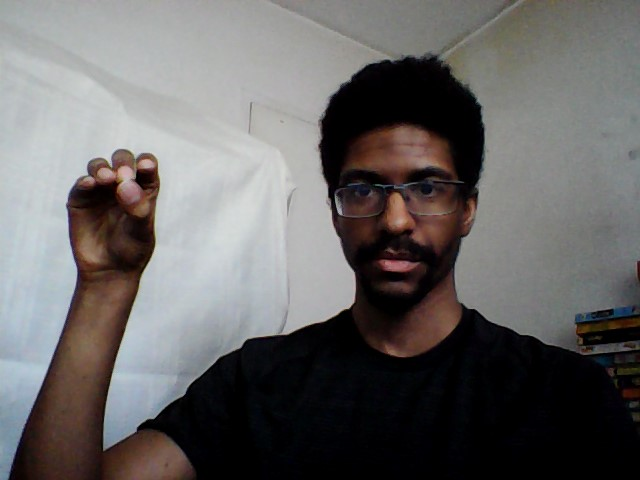o: (61, 142, 163, 270)
